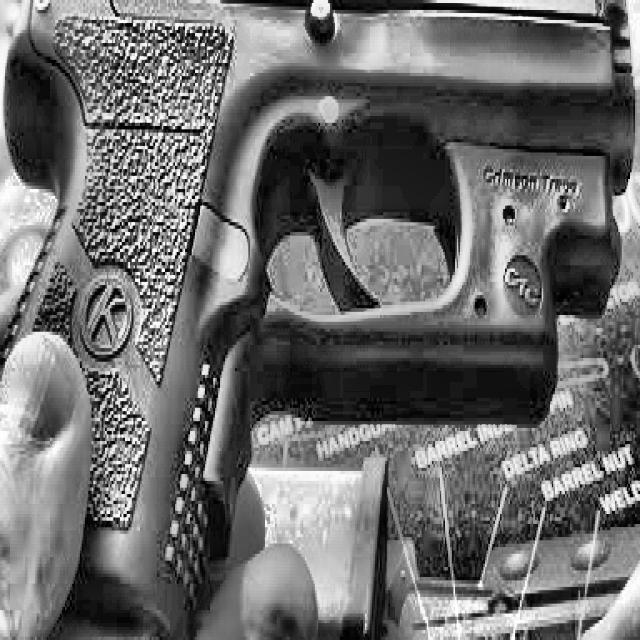Kahr: (0, 0, 637, 640)
